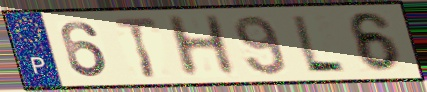6: (345, 10, 405, 75), (57, 19, 110, 78)
9: (230, 13, 290, 77)
H: (162, 13, 241, 80)
L: (289, 13, 349, 74)
T: (111, 16, 161, 80)
